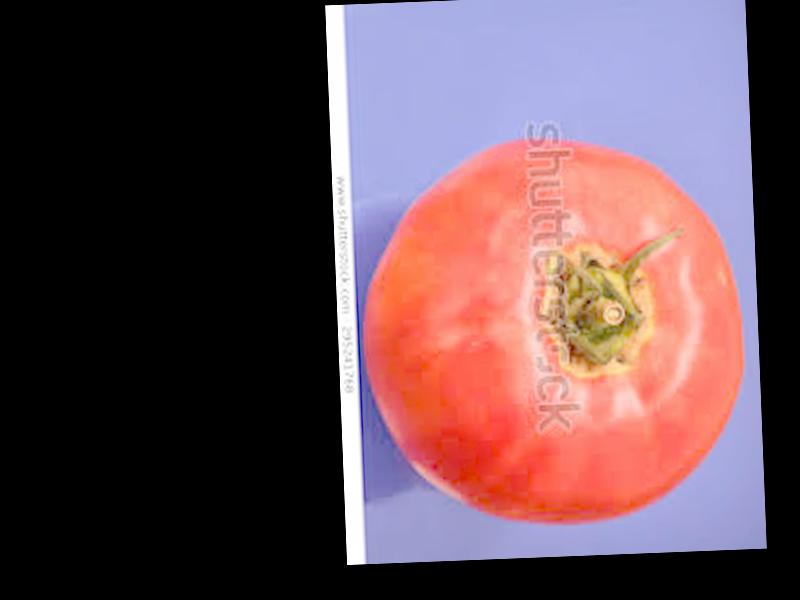Tomato: (364, 130, 750, 533)
